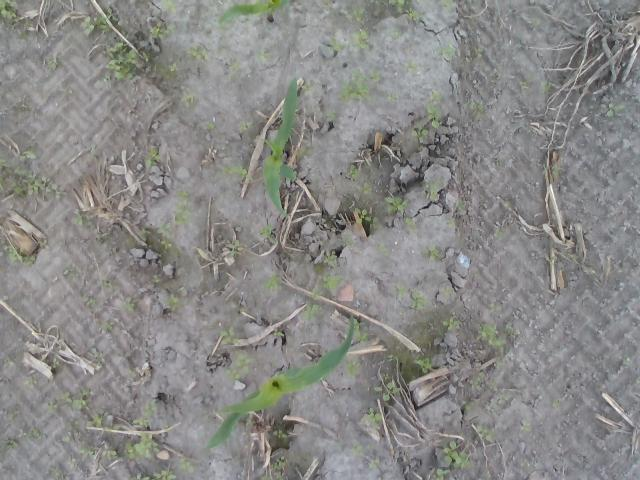Maize: (207, 312, 356, 450), (260, 76, 298, 218), (218, 0, 289, 27)
Weeds: (336, 68, 382, 104), (14, 164, 65, 193), (105, 39, 138, 82), (312, 250, 342, 289), (224, 348, 255, 385), (122, 432, 160, 460), (368, 0, 419, 20), (80, 8, 118, 34), (140, 223, 172, 250), (0, 0, 33, 26), (59, 388, 96, 410), (442, 440, 469, 470), (374, 372, 400, 401), (424, 90, 442, 129), (132, 401, 158, 427), (259, 456, 287, 480), (175, 191, 193, 226), (302, 287, 321, 320), (478, 322, 502, 348), (0, 238, 21, 266), (222, 165, 256, 182), (130, 468, 177, 480), (381, 194, 407, 214), (150, 23, 179, 40), (217, 324, 240, 344), (161, 287, 184, 306), (354, 207, 378, 225), (431, 40, 457, 56), (327, 35, 348, 54), (363, 407, 382, 428), (258, 222, 276, 244), (144, 146, 162, 168), (158, 61, 178, 80), (476, 424, 496, 443), (424, 241, 440, 264), (186, 47, 208, 63), (346, 358, 363, 377), (355, 319, 369, 342), (390, 30, 416, 42), (411, 126, 428, 144), (415, 356, 432, 374), (410, 292, 427, 310), (440, 317, 461, 331), (607, 103, 625, 119), (20, 144, 38, 160), (350, 6, 368, 22), (352, 30, 368, 48), (254, 48, 273, 63), (223, 64, 240, 80), (424, 180, 439, 198), (86, 414, 105, 428), (73, 209, 89, 225), (265, 272, 281, 288), (539, 78, 553, 96), (180, 88, 194, 106), (351, 440, 365, 458), (21, 376, 38, 390), (159, 0, 177, 13), (64, 416, 80, 430), (2, 355, 18, 369), (62, 263, 76, 279), (471, 370, 485, 386), (432, 466, 448, 480), (22, 428, 40, 440), (179, 458, 193, 473), (470, 100, 486, 113), (228, 238, 240, 255), (440, 0, 456, 12), (46, 55, 58, 71), (302, 80, 314, 96), (464, 399, 481, 410), (273, 429, 290, 440), (64, 456, 78, 469), (103, 447, 117, 460), (46, 400, 59, 414), (83, 294, 96, 308), (22, 255, 36, 268), (140, 52, 158, 62), (95, 232, 112, 242), (357, 182, 370, 195), (298, 146, 312, 158), (403, 62, 418, 73), (377, 241, 388, 256), (238, 121, 256, 130), (349, 164, 360, 178), (79, 447, 96, 456), (504, 319, 512, 337), (368, 457, 381, 468), (95, 350, 105, 364), (518, 421, 530, 432), (325, 111, 337, 122), (395, 285, 407, 296), (403, 216, 416, 226), (128, 296, 136, 312), (385, 354, 400, 362), (126, 367, 136, 379), (102, 322, 114, 332), (163, 424, 174, 434), (50, 465, 60, 476), (150, 274, 161, 284), (456, 199, 466, 210), (342, 236, 353, 246), (0, 175, 6, 193), (442, 287, 454, 296), (112, 424, 120, 437), (50, 358, 60, 368), (519, 79, 529, 89), (520, 458, 530, 468), (0, 158, 10, 168), (487, 301, 496, 312), (7, 439, 16, 450), (40, 238, 49, 248), (446, 219, 456, 228), (474, 48, 485, 56), (386, 94, 397, 102), (552, 165, 560, 175), (246, 418, 256, 426), (64, 88, 74, 96), (552, 399, 560, 408), (273, 330, 284, 336), (104, 281, 112, 289), (207, 414, 212, 424), (208, 123, 215, 130), (495, 228, 502, 235)
